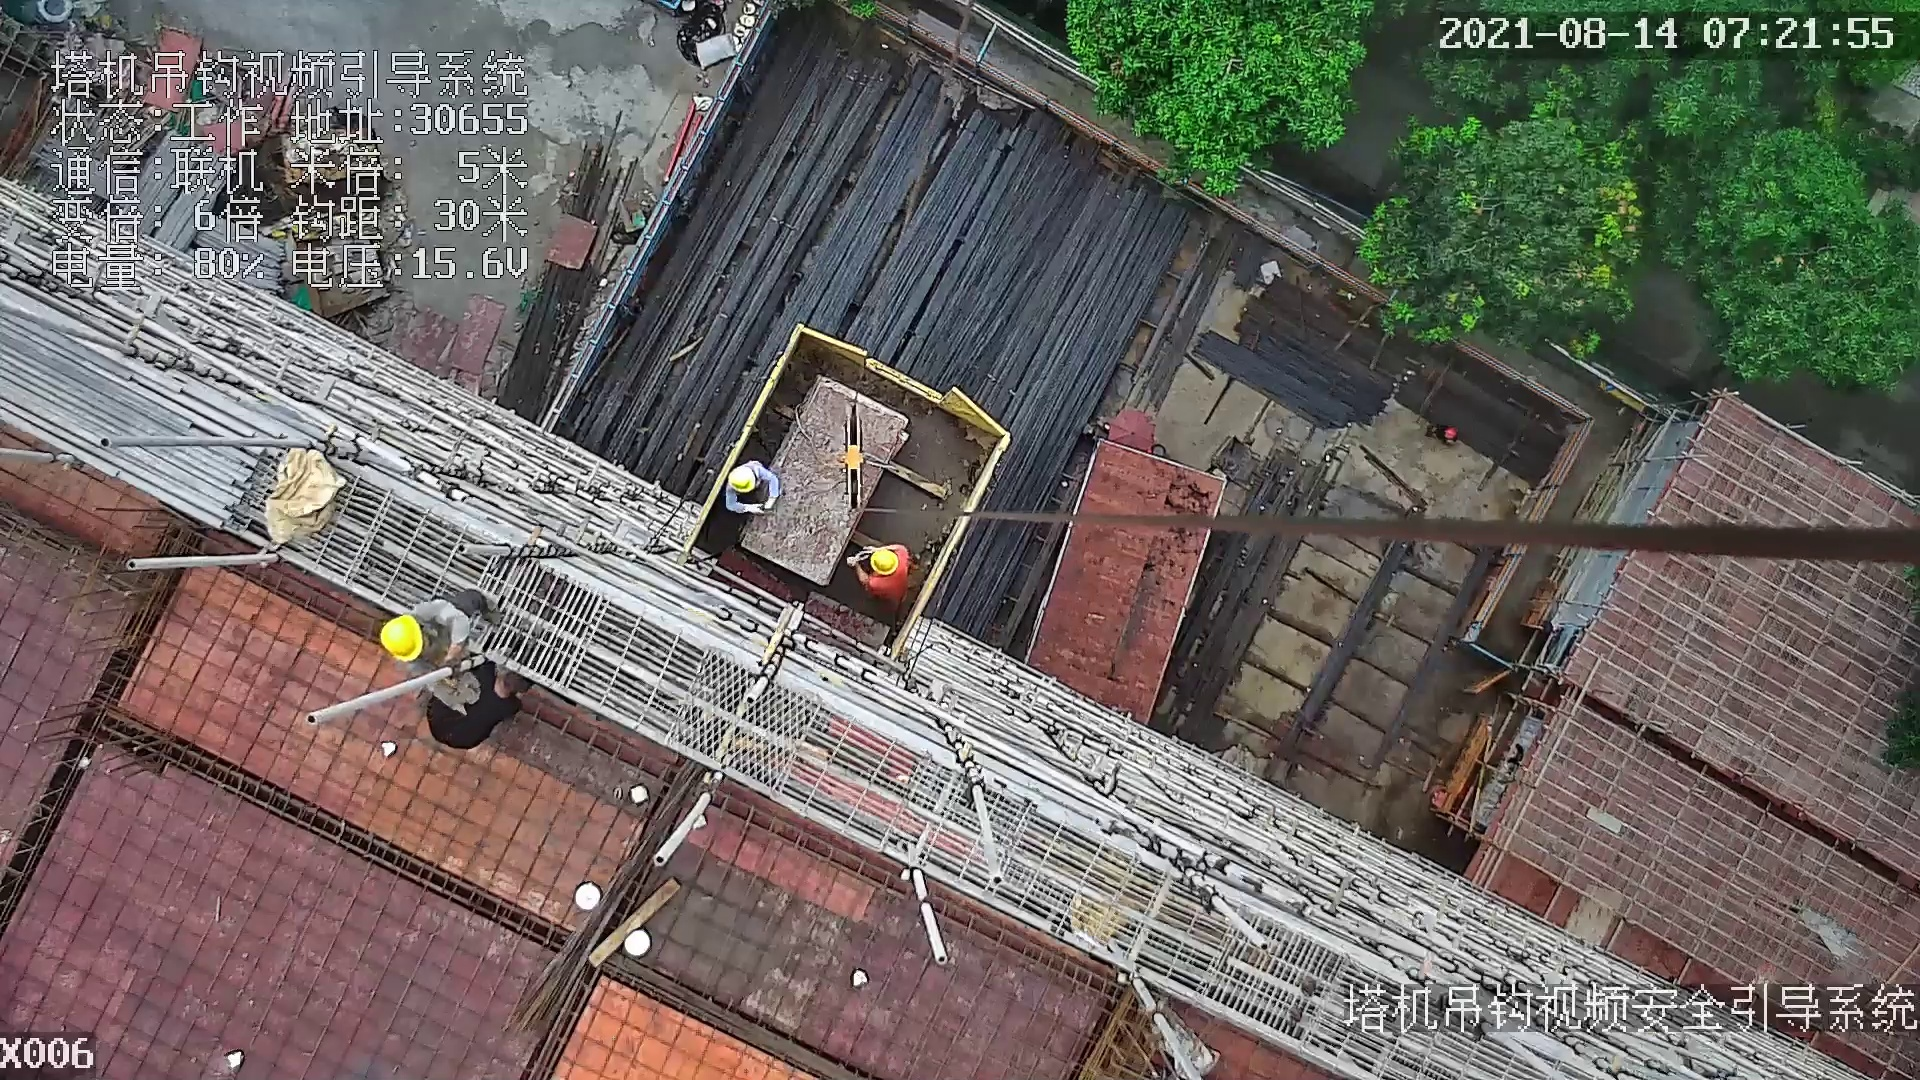helmet: (376, 613, 428, 658), (870, 545, 898, 574), (724, 466, 753, 489)
hook: (828, 403, 874, 509)
person: (408, 659, 535, 756), (392, 581, 494, 665), (850, 542, 905, 609), (727, 462, 782, 522)
